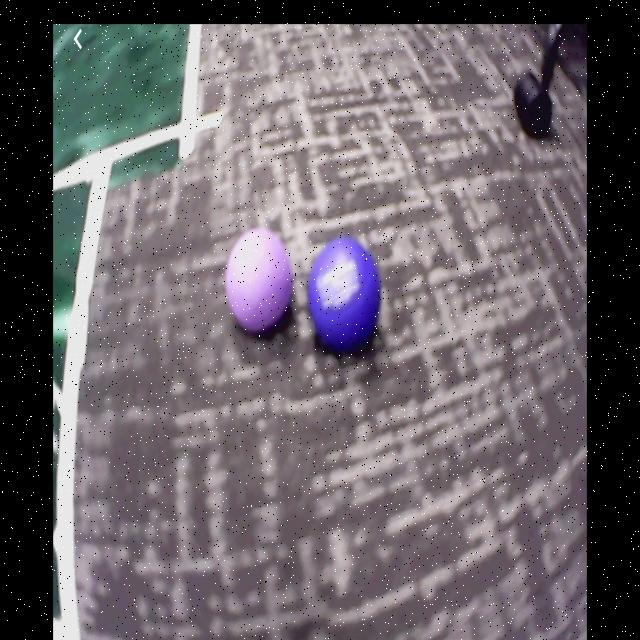ball: (309, 240, 384, 355), (226, 232, 295, 335)
